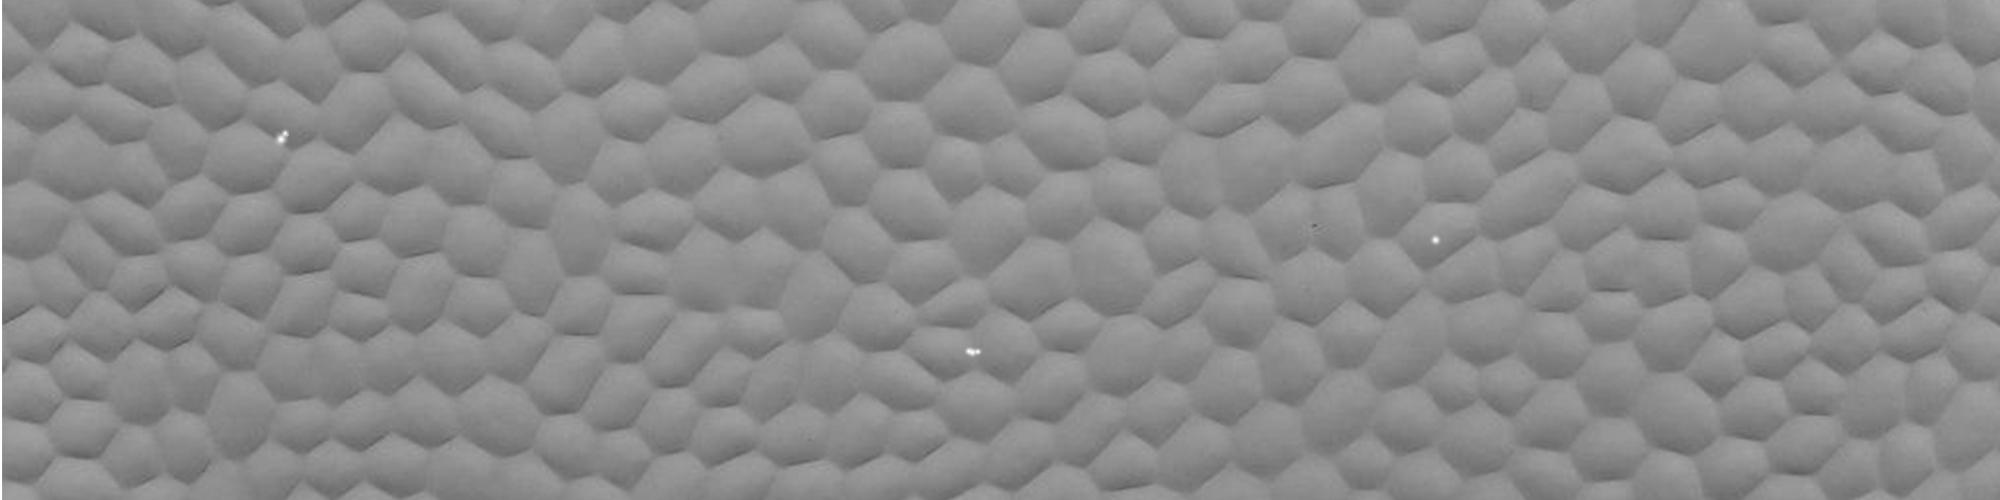Particles: (960, 339, 985, 361), (1423, 233, 1449, 249), (273, 130, 293, 148)
